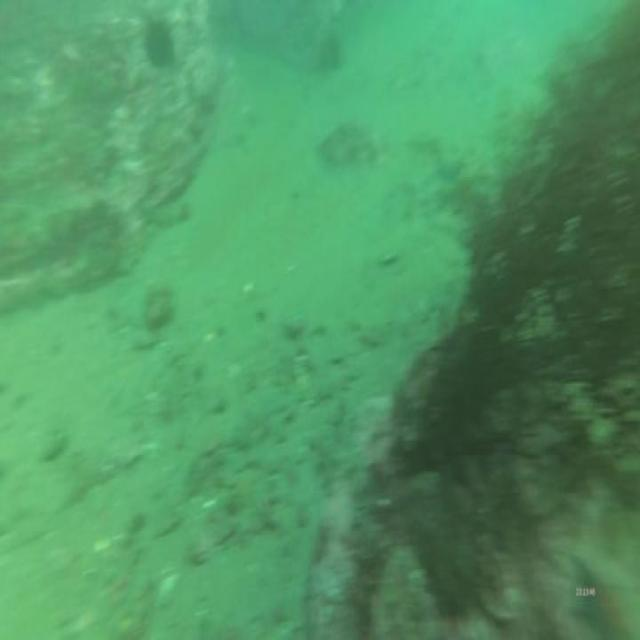echinus: (143, 16, 173, 71)
starfish: (560, 550, 616, 634)
waterweeds: (371, 0, 640, 572)
